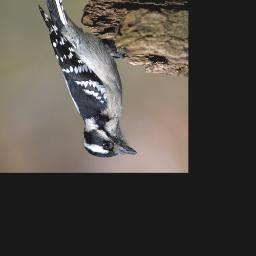Woodpecker: (38, 0, 138, 161)
